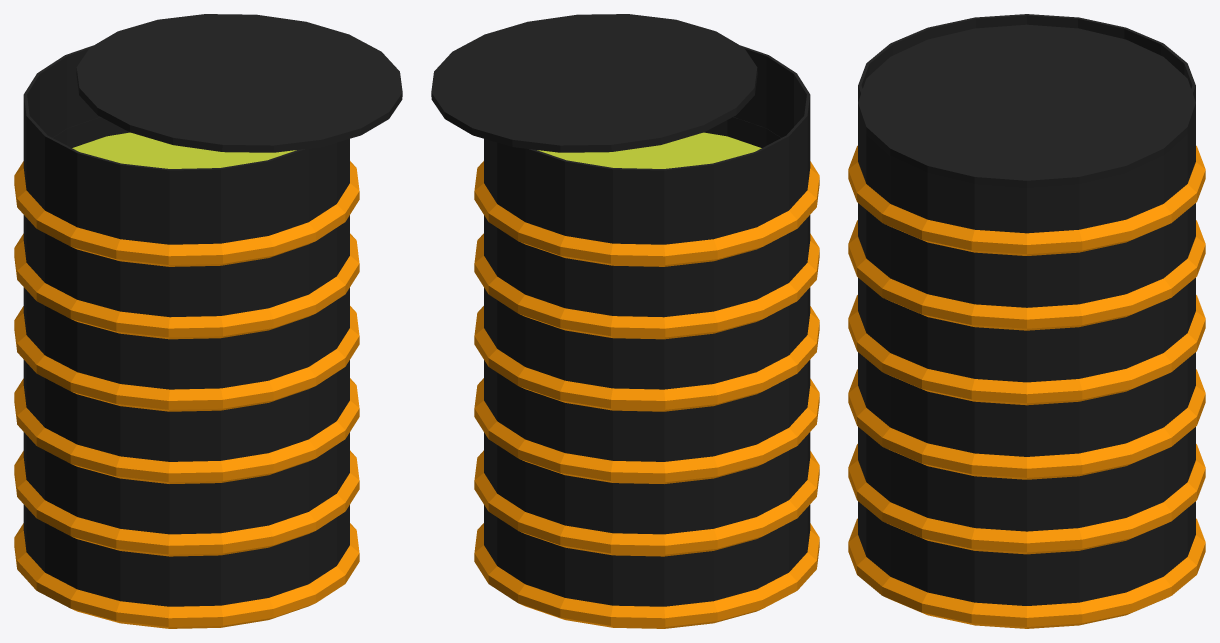
The model's file is openbarrel.glb.
3 renders of one model, left to right at view 1: azimuth 30°, elevation 25°; view 2: azimuth 150°, elevation 25°; view 3: azimuth 270°, elevation 25°, orthographic. The views are drawn at different scales.
Parts seen in each view (by area): view 1: openbarrel, barrellid; view 2: openbarrel, barrellid; view 3: openbarrel, barrellid.
Part boxes in pixels (bbox=[...]): openbarrel: bbox=[14, 45, 359, 628]; barrellid: bbox=[76, 14, 402, 152]; openbarrel: bbox=[474, 45, 819, 628]; barrellid: bbox=[431, 14, 757, 152]; openbarrel: bbox=[848, 14, 1205, 628]; barrellid: bbox=[858, 24, 1195, 187].
Size of what is drawn, in the model's own units: 1.21 by 1.59 by 1.06.
Materials: 2 (2 with a texture image).
